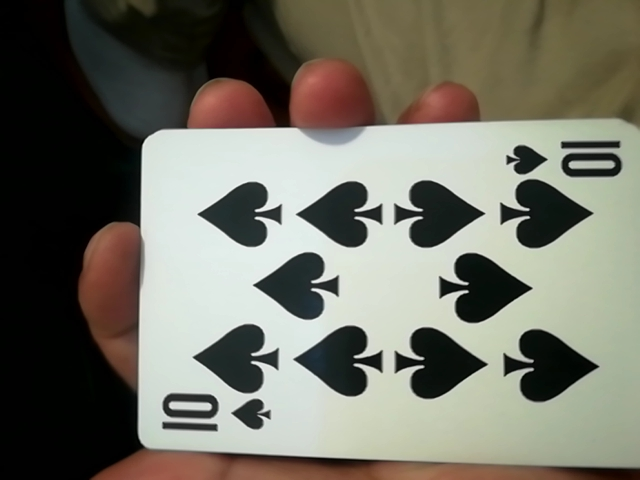ht 10: (127, 121, 628, 477)
